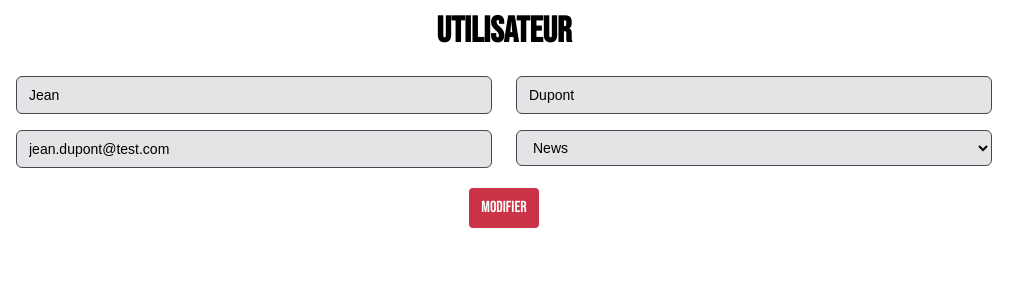
Scenario: AddUserModal › affiche l'erreur retournee par Better Auth en mode edition
Click the button "Modifier".
click(504, 208)  # box x1=469 y1=188 x2=539 y2=228
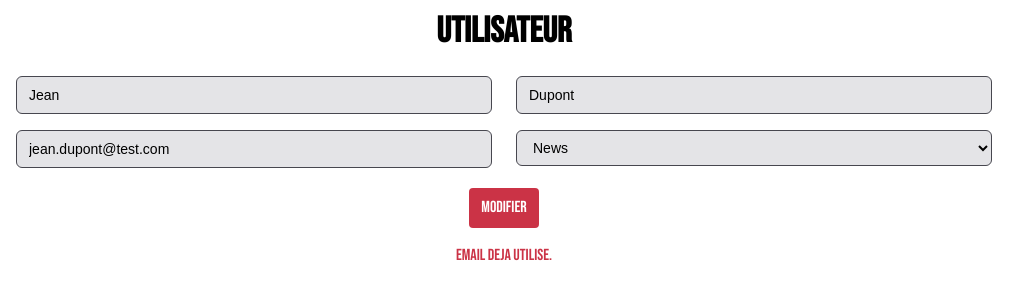
Check: the text "Email deja utilise." is shown, box x1=456 y1=246 x2=552 y2=265
